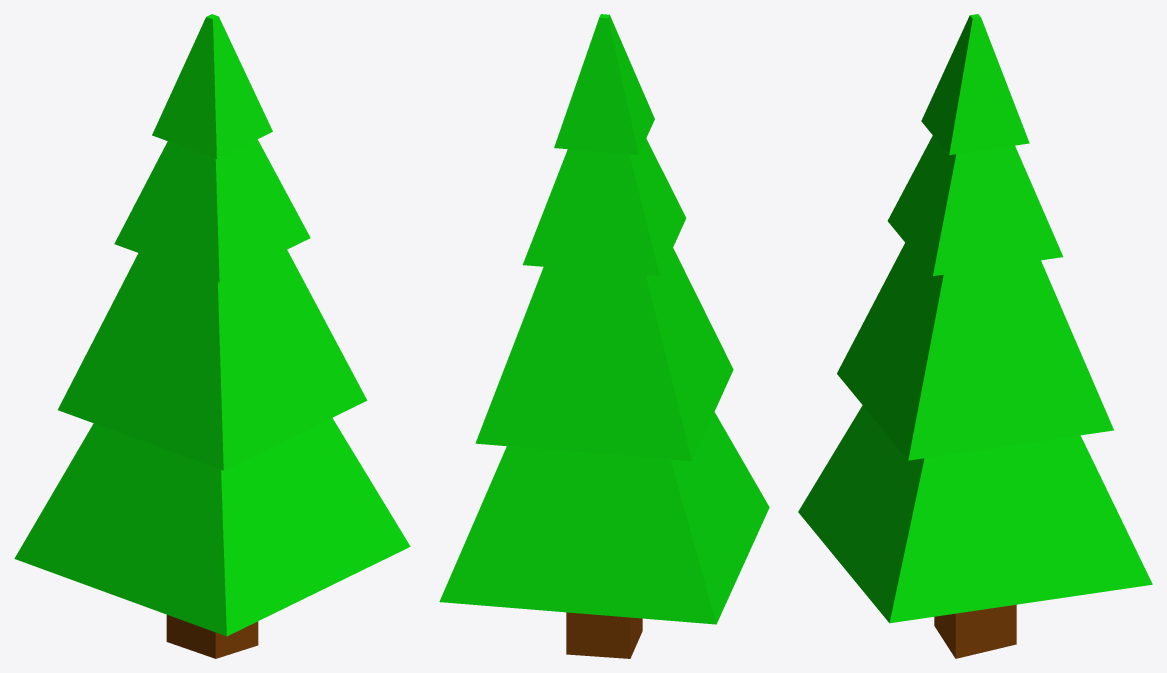
The model's file is jelka 5.fbx.
3 views of the same model, side by side, from view 1: azimuth 30°, elevation 25°; view 2: azimuth 150°, elevation 25°; view 3: azimuth 270°, elevation 25° (orthographic).
Visible parts, largest first — view 1: Cube.006; view 2: Cube.006; view 3: Cube.006.
Boxes of the visible parts, x1,y1,x2,y2 form: Cube.006: (14, 14, 410, 658); Cube.006: (439, 14, 769, 658); Cube.006: (798, 14, 1152, 658).
Size of the model in its own units: 599 by 1164 by 599.
